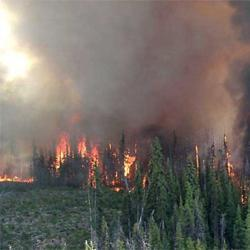fire: (1, 173, 34, 183), (57, 142, 69, 168), (124, 157, 136, 174)
smoke: (99, 16, 211, 120)
